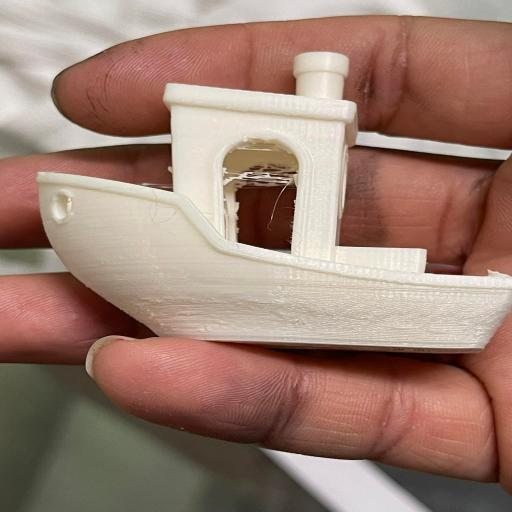stringing: (220, 166, 302, 190)
